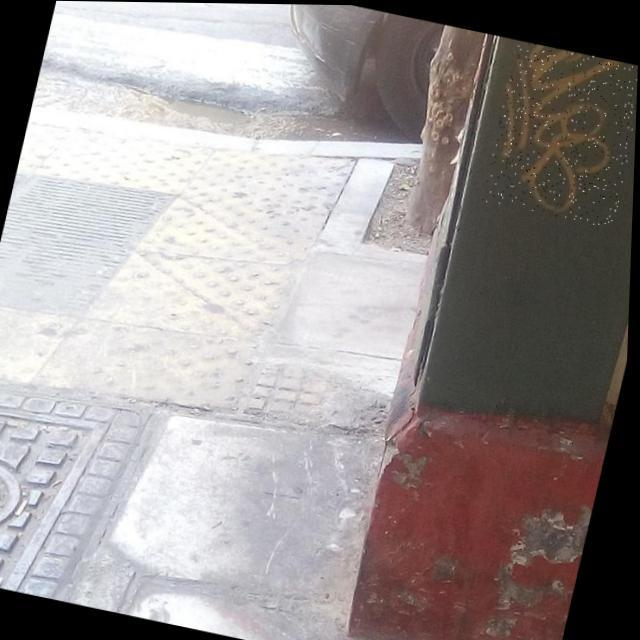-: (482, 38, 639, 226)
